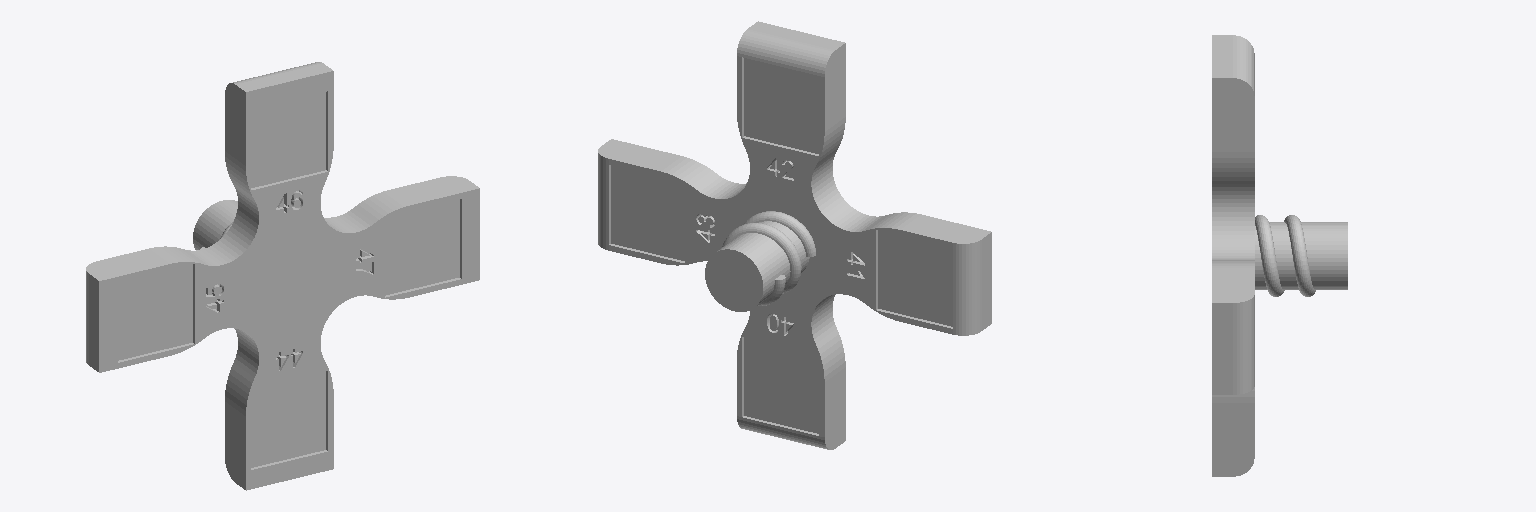
The model's file is round_table_base.obj.
The picture shows the model from 3 angles: view 1: azimuth 30°, elevation 25°; view 2: azimuth 150°, elevation 25°; view 3: azimuth 270°, elevation 25°; orthographic projection.
Visible parts, largest first — view 1: round_support_v6, round_support_v6.005, round_support_v6.006, round_support_v6.007, round_support_v6.008; view 2: round_support_v6, round_support_v6.001, round_support_v6.002, round_support_v6.003, round_support_v6.004; view 3: round_support_v6.
Part boxes in pixels (x1,y1,x2,y2): round_support_v6: (86,62,479,490); round_support_v6.005: (251,371,327,469); round_support_v6.006: (118,264,194,362); round_support_v6.007: (251,91,327,189); round_support_v6.008: (385,199,461,297); round_support_v6: (598,21,991,449); round_support_v6.001: (742,337,818,435); round_support_v6.002: (876,230,952,328); round_support_v6.003: (742,57,818,155); round_support_v6.004: (609,165,684,262); round_support_v6: (1212,35,1347,476).
Size of the model in its own units: 0.13 by 0.13 by 0.04.